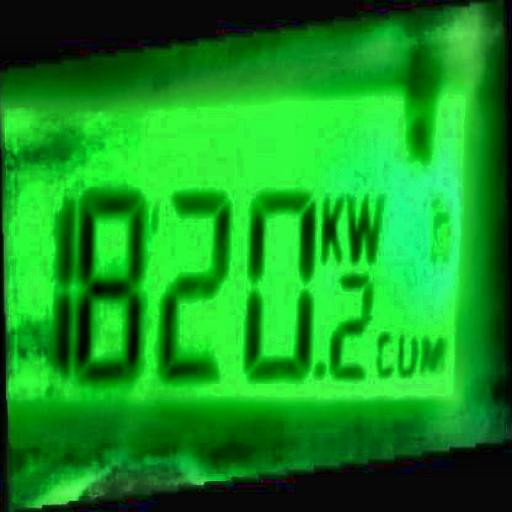DISPLAY_REGION: (0, 75, 497, 417)
SERIAL_REGION: (42, 184, 387, 380)
